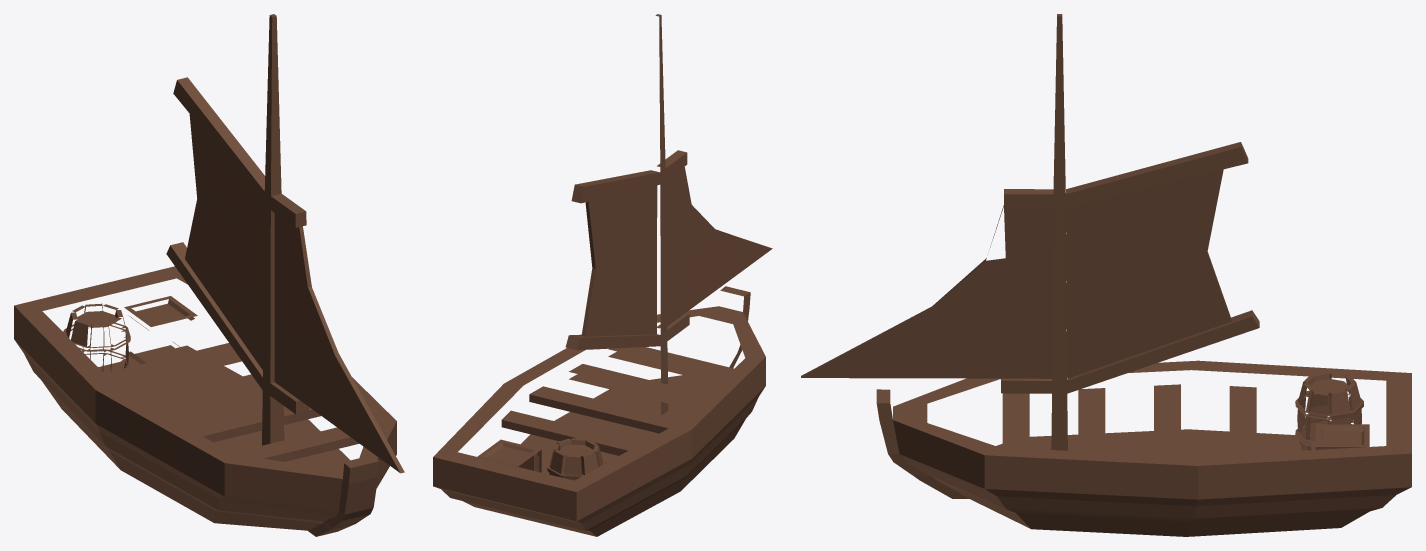
File: polypizza-sail-boat.glb
The picture shows the model from 3 angles, left to right: view 1: azimuth 30°, elevation 25°; view 2: azimuth 150°, elevation 25°; view 3: azimuth 270°, elevation 25°; orthographic projection. The views are drawn at different scales.
Visible parts, largest first — view 1: Sail; view 2: Sail; view 3: Sail.
Part boxes in pixels (x1,y1,x2,y2): Sail: (14,14,404,536); Sail: (433,14,772,536); Sail: (801,14,1411,536).
Bounding box in the file's own units: 0.4077 × 0.8642 × 1.
